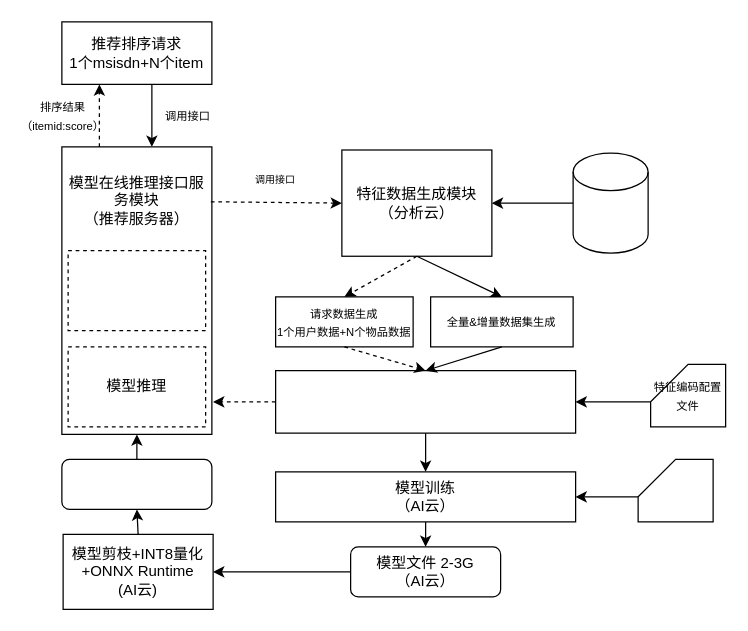
Some shapes in this 748 by 631 pixel diagram are drawn without their labels. Here are the shapes that lost their labels. From the top down, the centre of each, then its label:
At pixel 610 202: "各种表数据".
At pixel 136 290: "接口服务".
At pixel 425 401: "特征编码模块 （分析云）".
At pixel 136 483: "模型文件 300M （分析云）".
At pixel 675 490: "模型配置文件".
